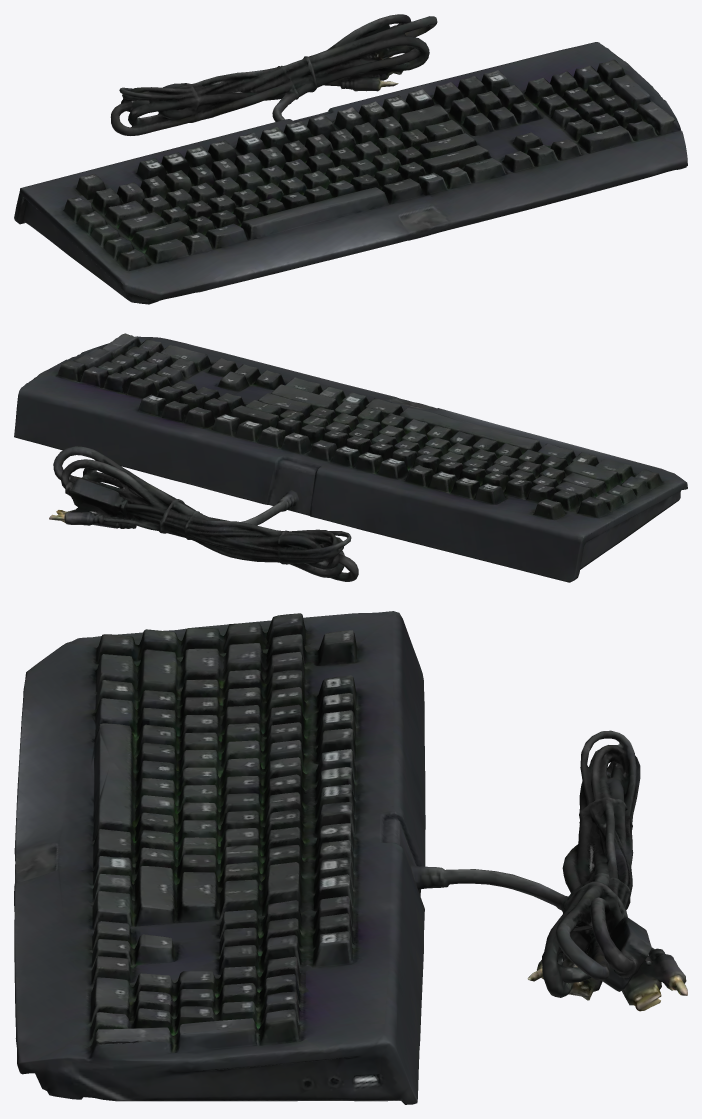
The model's file is gso-keyboard.glb.
3 renders of one model, top to bottom at view 1: azimuth 30°, elevation 25°; view 2: azimuth 150°, elevation 25°; view 3: azimuth 270°, elevation 25°, orthographic. The views are drawn at different scales.
Visible parts, largest first — view 1: Razer_BlackWidow_Ultimate_2014_Mechanical_Gaming_Keyboard; view 2: Razer_BlackWidow_Ultimate_2014_Mechanical_Gaming_Keyboard; view 3: Razer_BlackWidow_Ultimate_2014_Mechanical_Gaming_Keyboard.
Part boxes in pixels (x1,y1,x2,y2): Razer_BlackWidow_Ultimate_2014_Mechanical_Gaming_Keyboard: [14, 14, 687, 304]; Razer_BlackWidow_Ultimate_2014_Mechanical_Gaming_Keyboard: [14, 333, 687, 582]; Razer_BlackWidow_Ultimate_2014_Mechanical_Gaming_Keyboard: [14, 611, 687, 1104].
Bounding box in the file's own units: 0.4713 × 0.0486 × 0.2995.
Materials: 1 (1 with a texture image).
